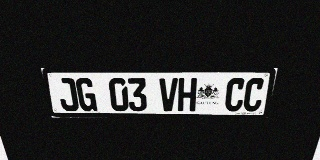0: (108, 78, 129, 111)
3: (127, 78, 147, 111)
C: (242, 78, 266, 111), (224, 78, 246, 111)
G: (75, 78, 97, 111)
H: (178, 78, 197, 111)
J: (56, 78, 79, 111)
V: (159, 78, 178, 111)
